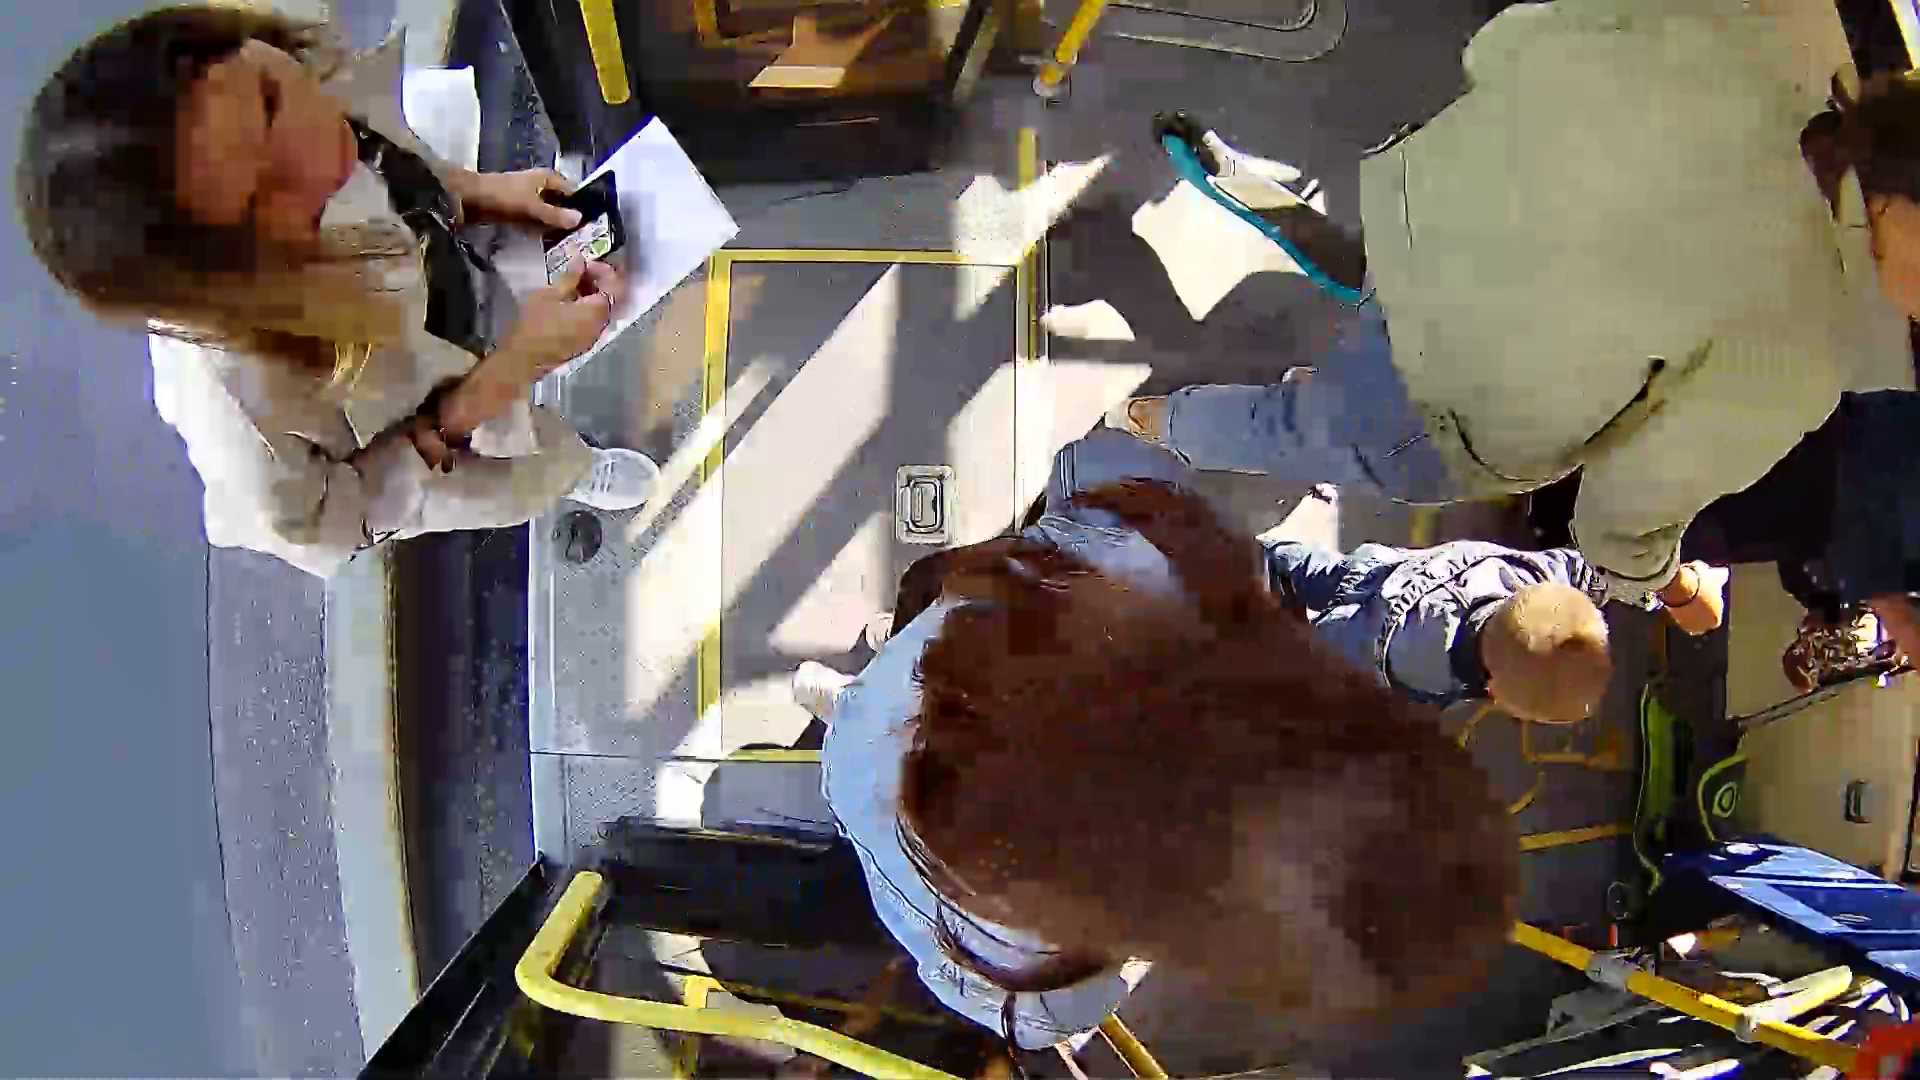person: (784, 513, 1607, 1038), (65, 31, 828, 573)
